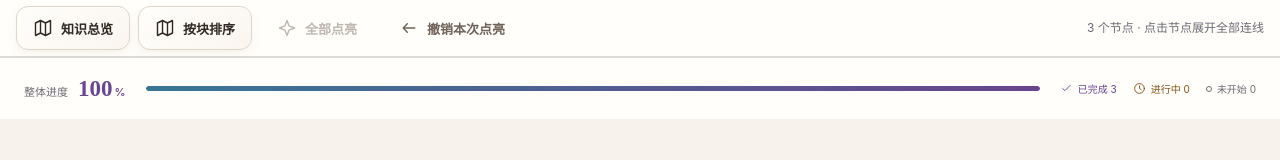
Scenario: preserves existing undo journals across reload and isolates them by account and map
Click the button "撤销本次点亮" at (452, 28), box [382,6,522,50]
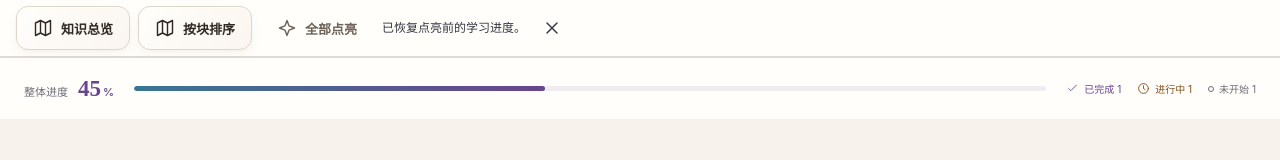
Expected: the button "撤销本次点亮" is gone
